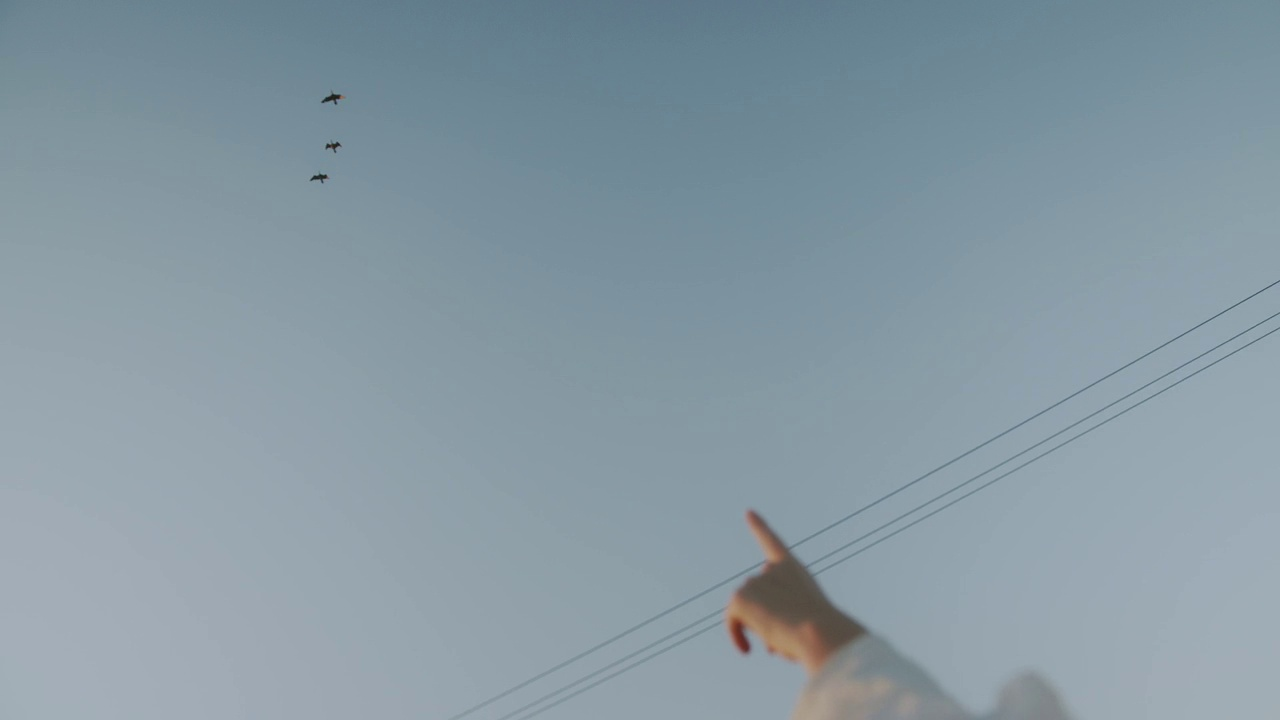bird: (320, 90, 345, 105), (323, 139, 342, 153), (309, 171, 329, 184)
